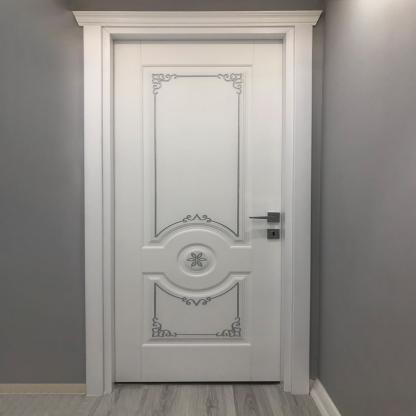door: (112, 38, 282, 384)
